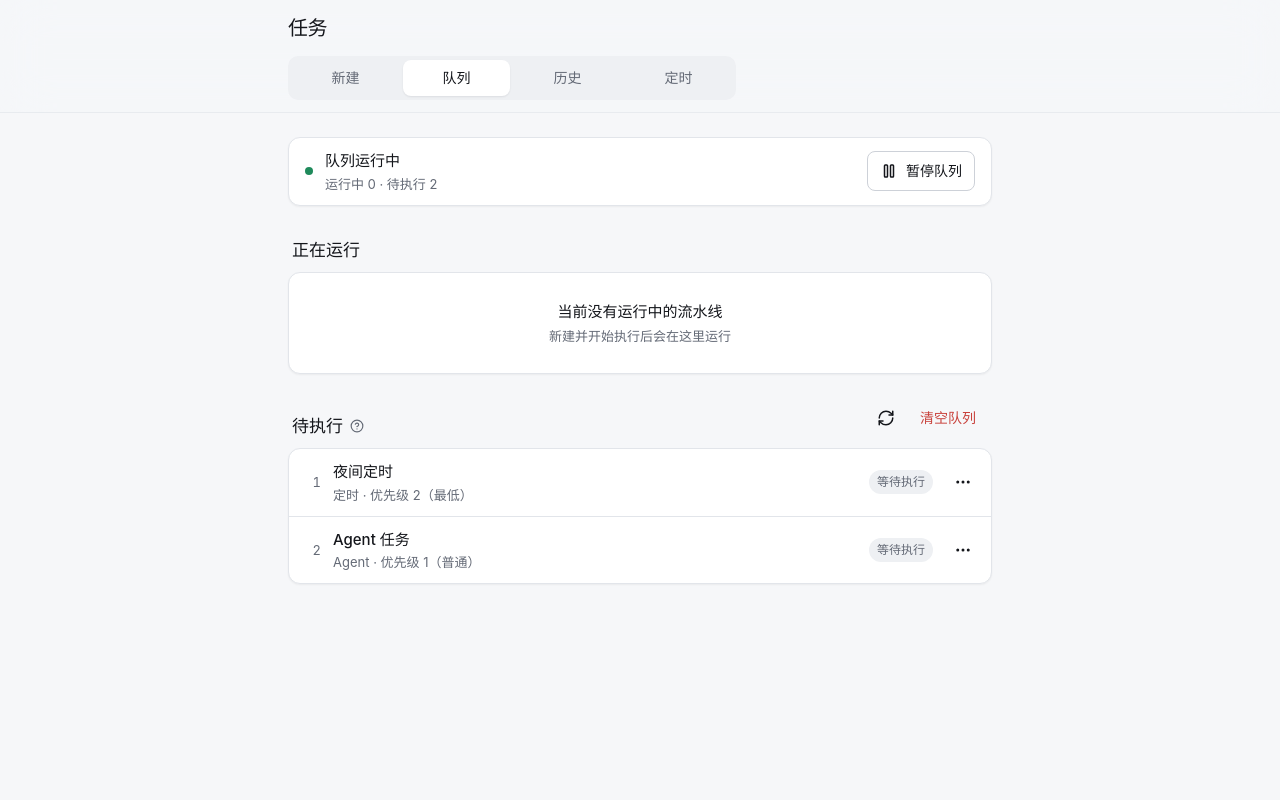
task queue › cannot jump ahead when nothing is running
Expected: the text "当前没有运行中的流水线" is shown, [549, 300, 731, 323]
Click the button named "「夜间定时」的更多操作". click: (963, 482)
box: [941, 460, 985, 504]
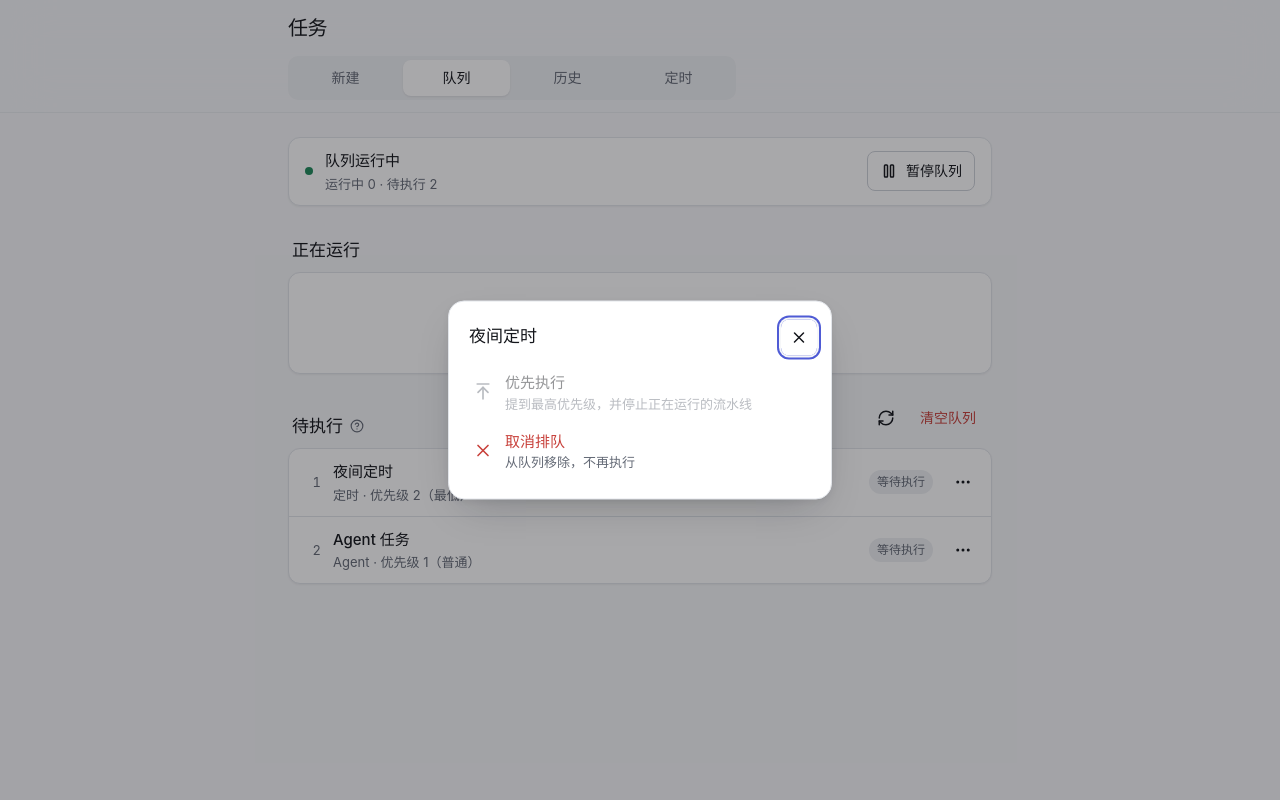
Result: the button "优先执行 提到最高优先级，并停止正在运行的流水线" is disabled at [461, 364, 819, 420]
